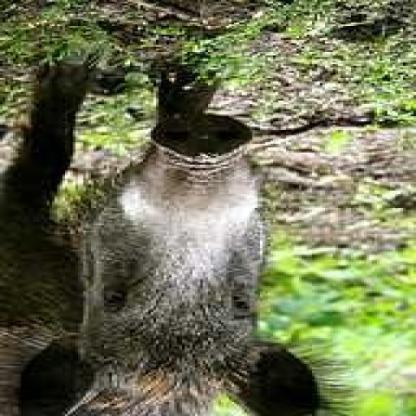boar: (0, 72, 325, 416)
